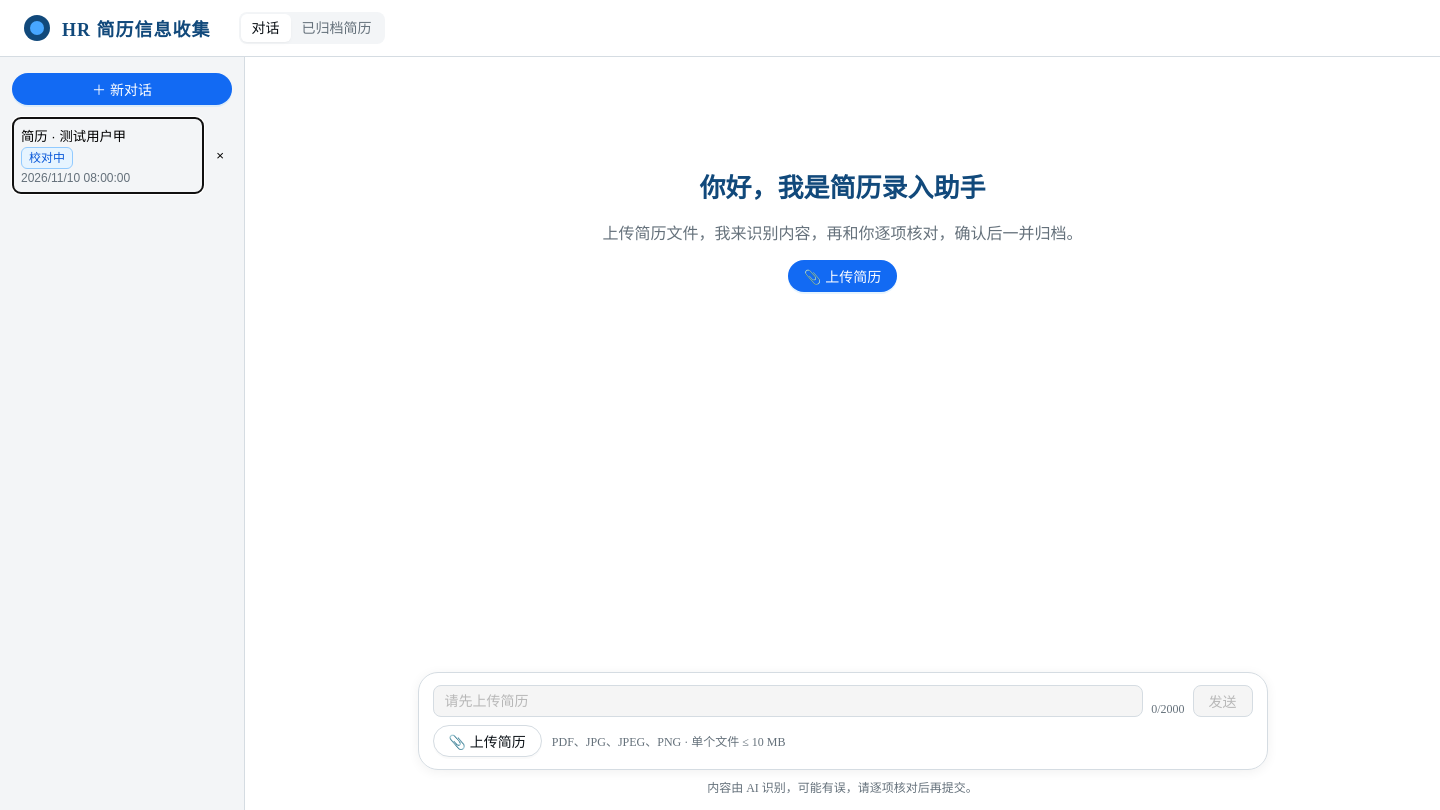
Test: keyboard reachability of the v2 controls (TD-13) › send, apply, delete and the page switch work from the keyboard
Later steps or results of the test are not shown.
Press Enter
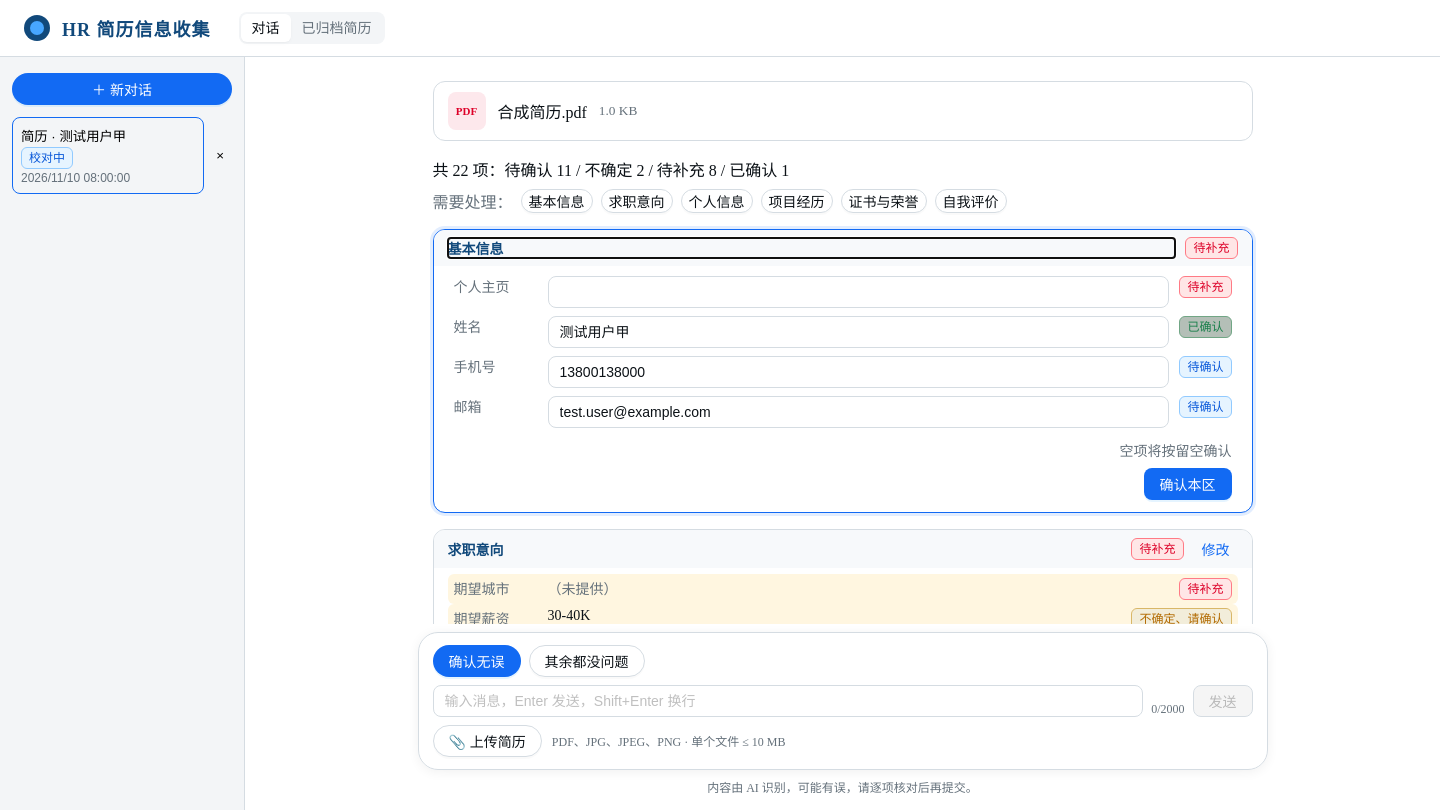
Expected: the heading "基本信息" is shown, 448,242 -> 504,257
Type "岗位改成采购总监" into the text box named "对话输入" at (788, 701), box 432,685 -> 1143,717
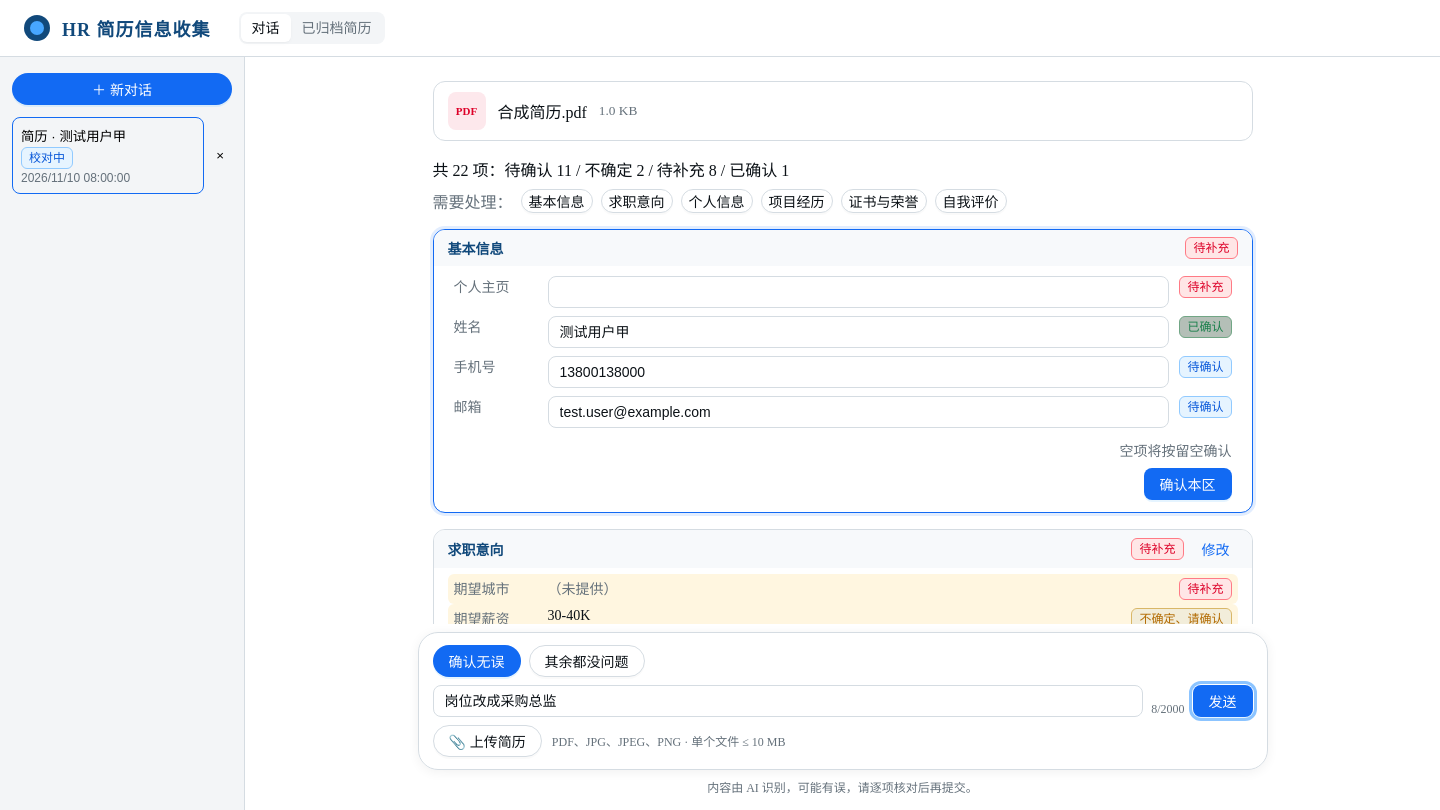
Press Enter
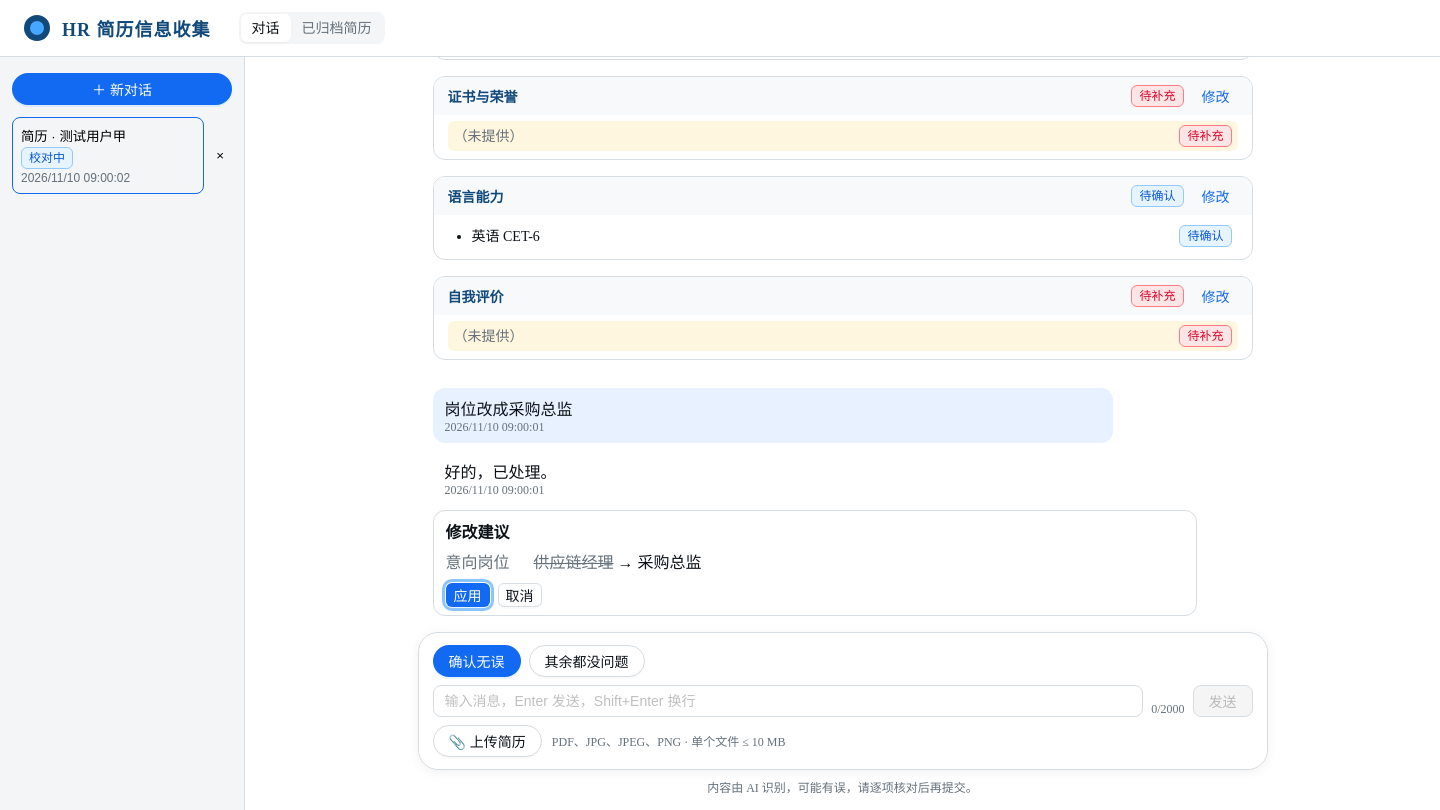
Press Enter
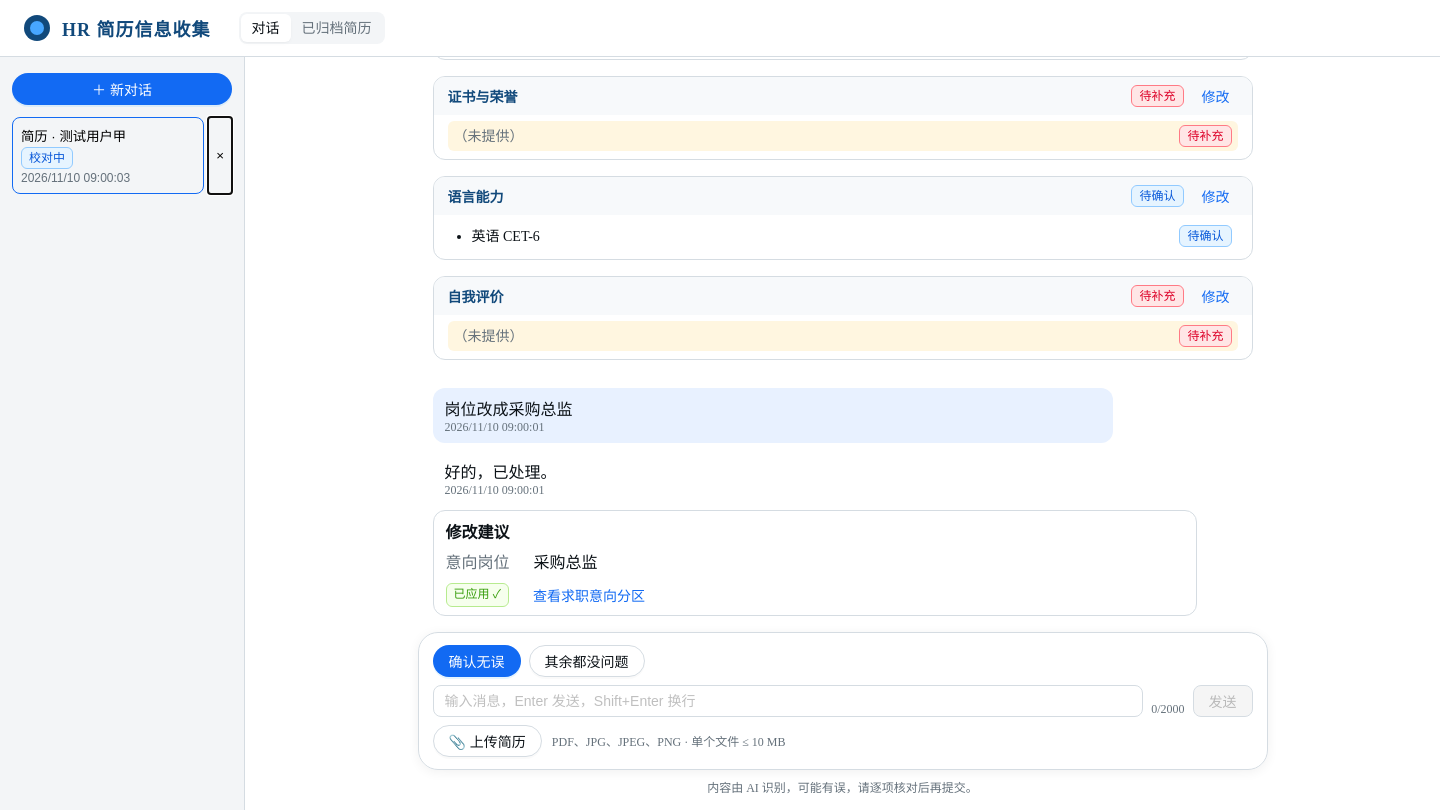
Expected: the text "已应用 ✓" is shown, 446,583 -> 509,607
Press Enter
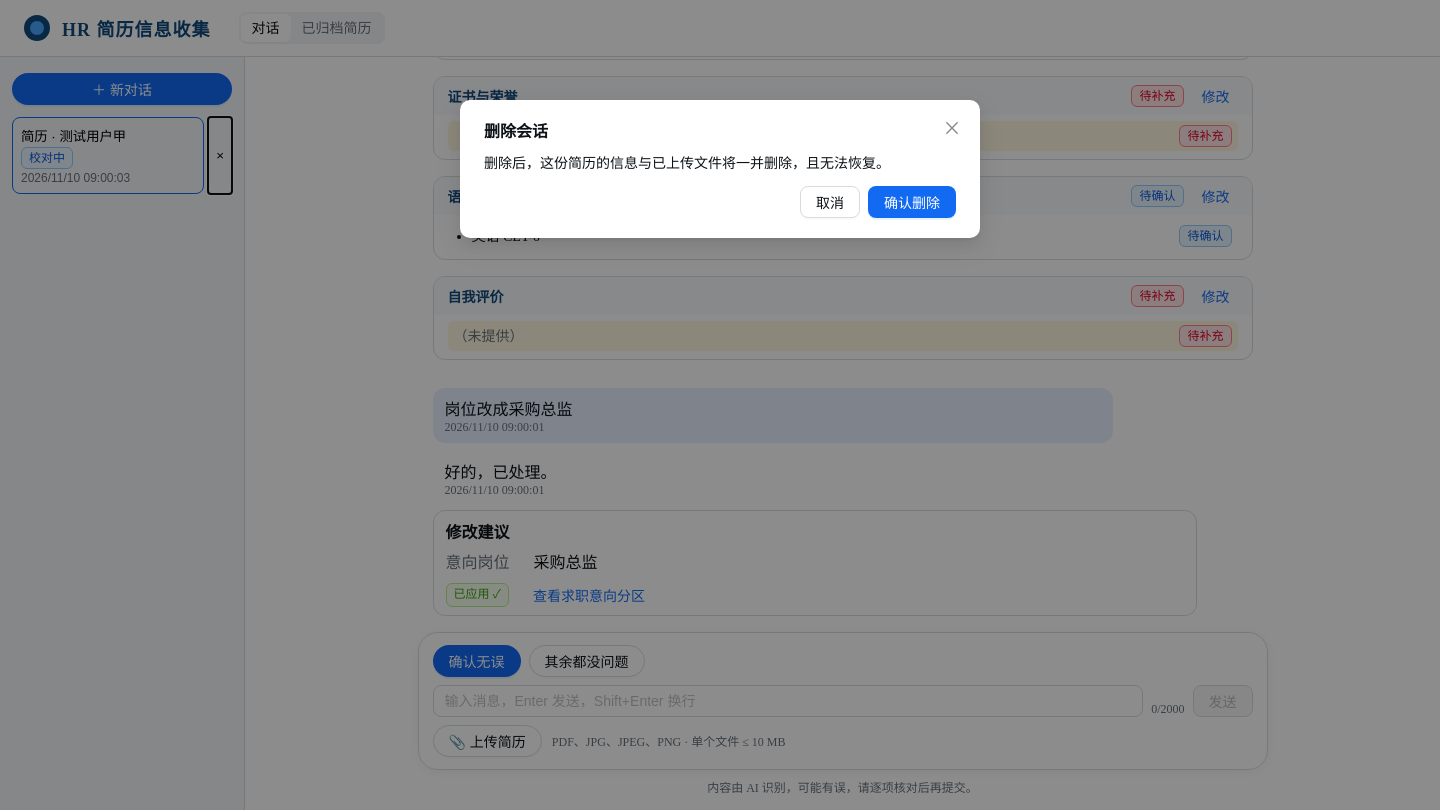
Expected: the dialog shows "删除会话", 484,123 -> 548,140
